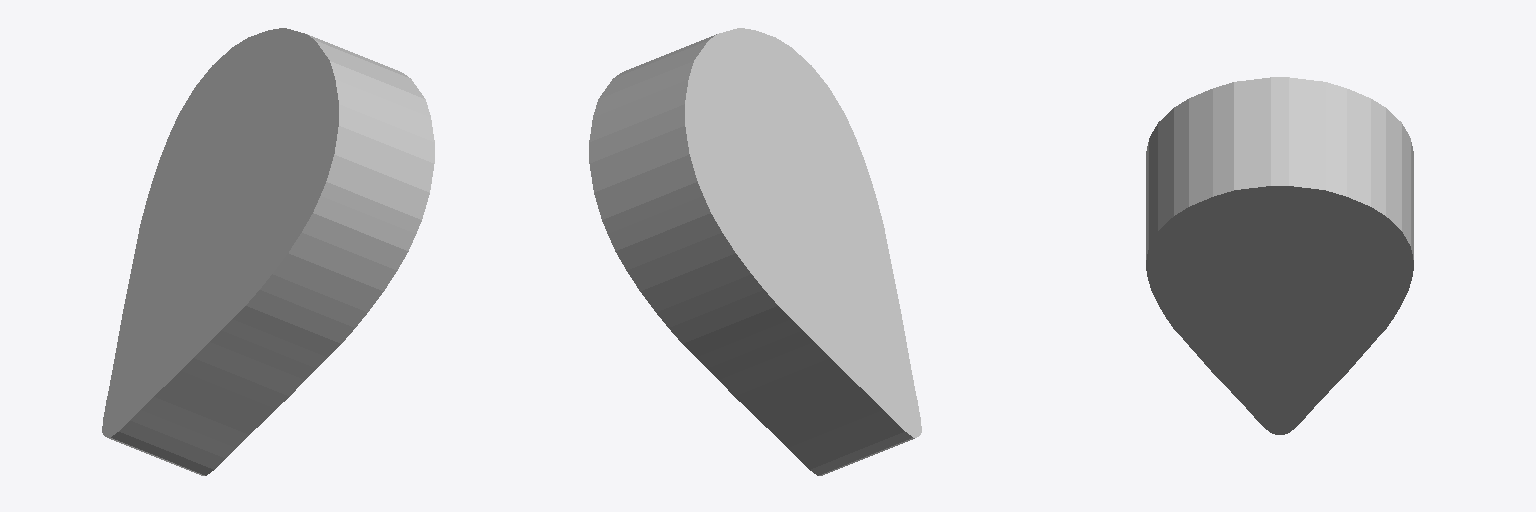
File: Tropfenicon.obj
3 renders of one model, left to right at view 1: azimuth 30°, elevation 25°; view 2: azimuth 150°, elevation 25°; view 3: azimuth 270°, elevation 25°, orthographic.
Visible parts, largest first — view 1: Tropfen; view 2: Tropfen; view 3: Tropfen.
Part boxes in pixels (bbox=[...]): Tropfen: bbox=[102, 28, 434, 475]; Tropfen: bbox=[589, 28, 921, 475]; Tropfen: bbox=[1146, 77, 1413, 434].
Size of the model in its own units: 10.59 by 13.8 by 8.18.